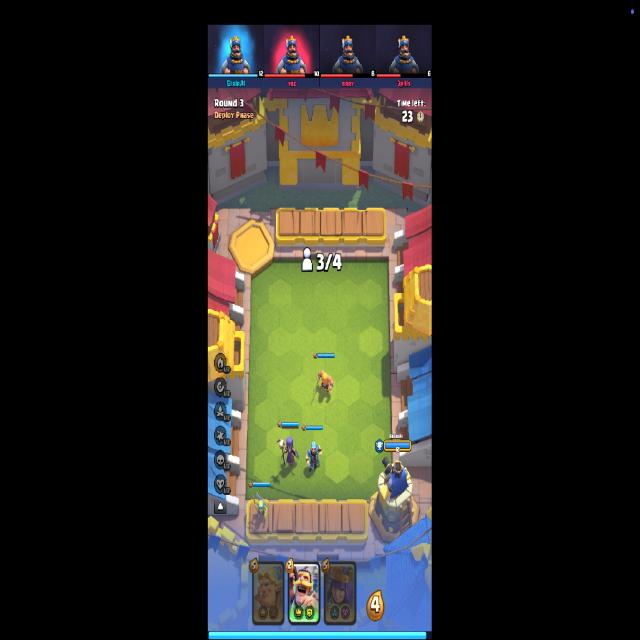barbarian: (312, 369, 333, 401)
card_archer_queen: (323, 560, 357, 626)
card_golden_knight: (252, 561, 285, 627)
card_knight: (288, 561, 320, 626)
spear_goblin: (251, 492, 268, 522)
witch: (276, 436, 298, 468)
wizard: (305, 441, 323, 473)
